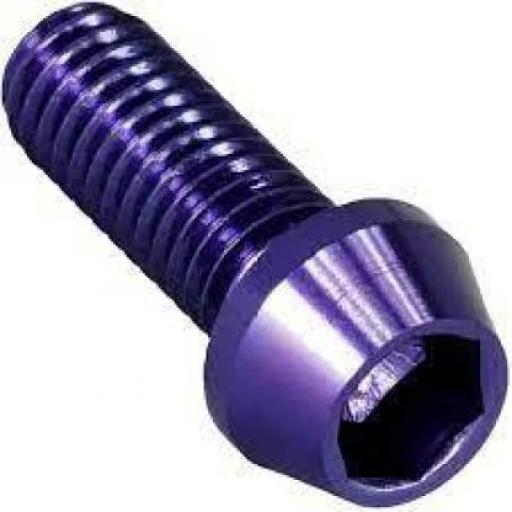Bolt: (1, 1, 509, 508)
